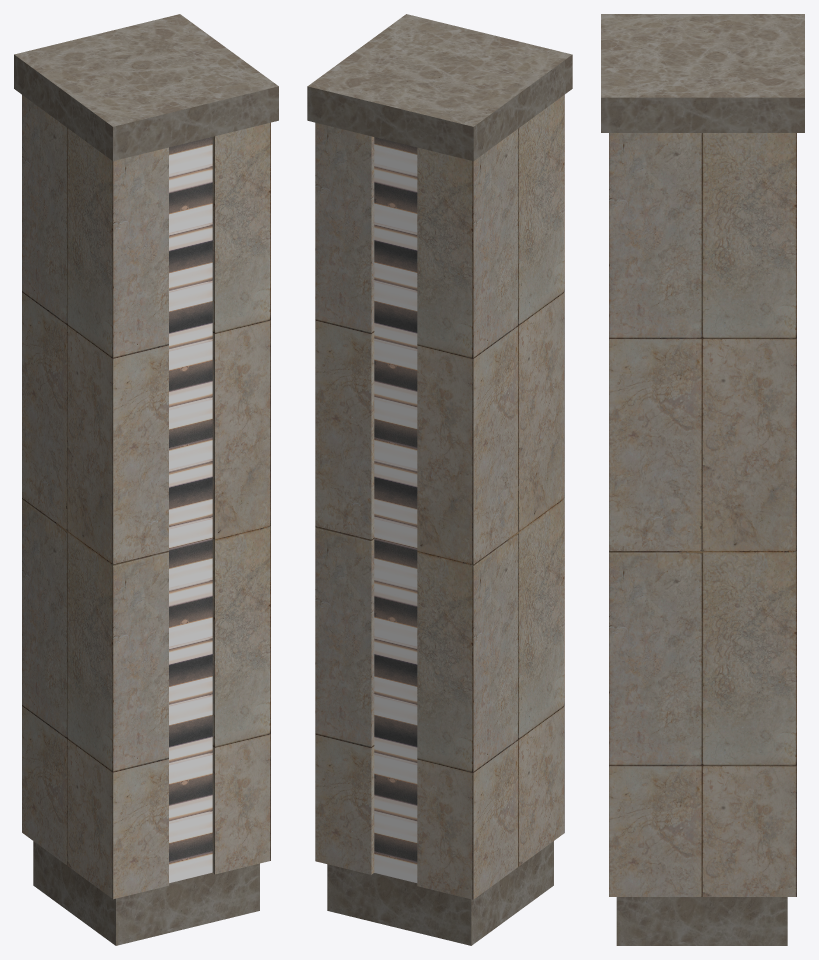
Rendered from Subway04_InterCalumn01.FBX.
The picture shows the model from 3 angles, left to right: view 1: azimuth 30°, elevation 25°; view 2: azimuth 150°, elevation 25°; view 3: azimuth 270°, elevation 25°; orthographic projection. The views are drawn at different scales.
Visible parts, largest first — view 1: Subway04_InterCalumn01, Subway04_InterCalumn02; view 2: Subway04_InterCalumn01, Subway04_InterCalumn02; view 3: Subway04_InterCalumn01, Subway04_InterCalumn02.
Part boxes in pixels (x1=…): Subway04_InterCalumn01: x1=22, y1=95, x2=270, y2=945; Subway04_InterCalumn02: x1=14, y1=14, x2=278, y2=160; Subway04_InterCalumn01: x1=315, y1=95, x2=564, y2=945; Subway04_InterCalumn02: x1=307, y1=14, x2=572, y2=160; Subway04_InterCalumn01: x1=609, y1=133, x2=796, y2=945; Subway04_InterCalumn02: x1=601, y1=14, x2=804, y2=132.
Size of the model in its own units: 1261 by 6005 by 1300.
